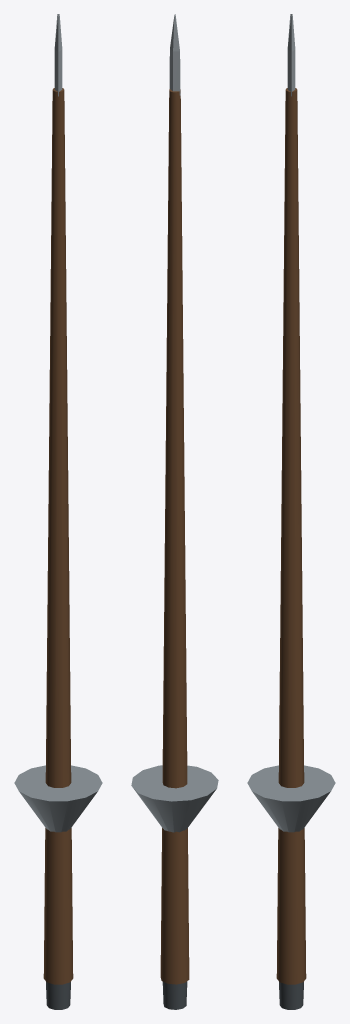
Rendered from lance.glb.
The picture shows the model from 3 angles, left to right: view 1: azimuth 90°, elevation 25°; view 2: azimuth 150°, elevation 25°; view 3: azimuth 270°, elevation 25°; orthographic projection.
Visible parts, largest first — view 1: lance-shaft, lance-vamplate, lance-butt-cap, lance-head; view 2: lance-shaft, lance-vamplate, lance-head, lance-butt-cap; view 3: lance-shaft, lance-vamplate, lance-butt-cap, lance-head.
Boxes of the visible parts, box(x1,y1,x2,y2) form: lance-shaft: box(43, 88, 73, 984); lance-vamplate: box(14, 765, 102, 832); lance-butt-cap: box(46, 982, 70, 1009); lance-head: box(54, 14, 62, 96); lance-shaft: box(160, 89, 189, 984); lance-vamplate: box(131, 765, 218, 832); lance-head: box(169, 14, 180, 95); lance-butt-cap: box(162, 981, 187, 1009); lance-shaft: box(276, 88, 306, 984); lance-vamplate: box(247, 765, 335, 832); lance-butt-cap: box(279, 982, 303, 1009); lance-head: box(287, 14, 295, 96).
Bounding box in the file's own units: 0.1365 × 1.73 × 0.14.
